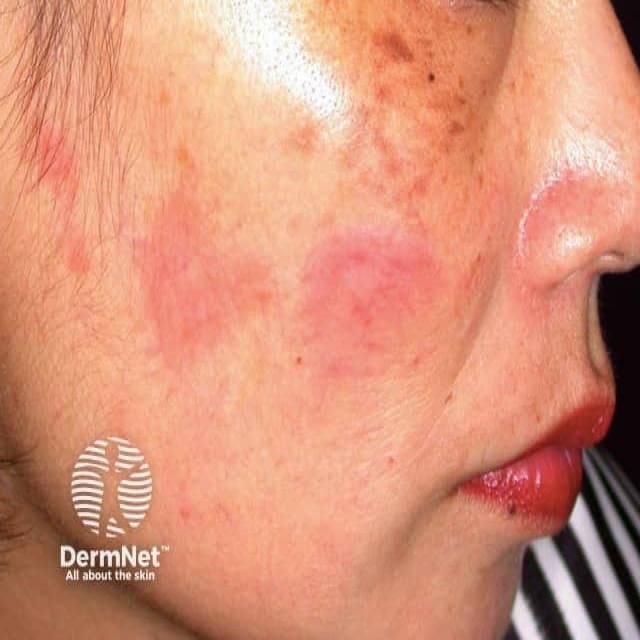lupus-detected: (29, 114, 462, 414)
